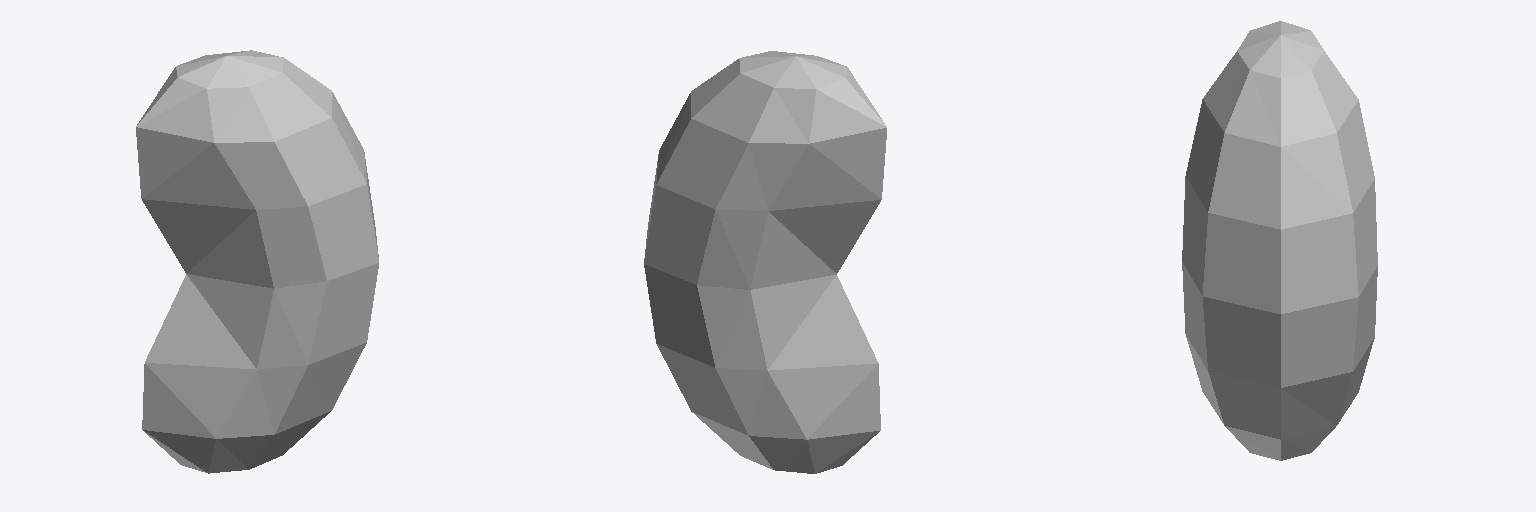
Rendered from bean1.obj.
The picture shows the model from 3 angles: view 1: azimuth 30°, elevation 25°; view 2: azimuth 150°, elevation 25°; view 3: azimuth 270°, elevation 25°; orthographic projection.
Visible parts, largest first — view 1: bean:Mesh; view 2: bean:Mesh; view 3: bean:Mesh.
Part boxes in pixels (x1,y1,x2,y2): bean:Mesh: (136,50,378,473); bean:Mesh: (644,51,886,473); bean:Mesh: (1182,21,1377,460).
Size of the model in its own units: 20.6 by 34.01 by 14.58.